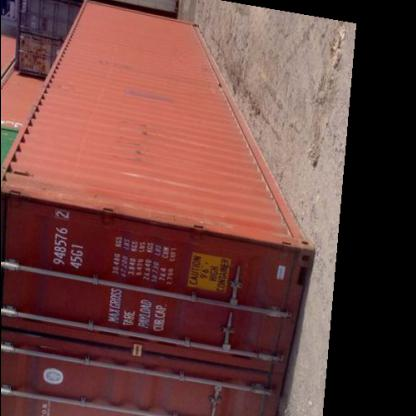Damage: (173, 298, 235, 344), (125, 117, 155, 174), (125, 88, 181, 106), (90, 57, 140, 76)
